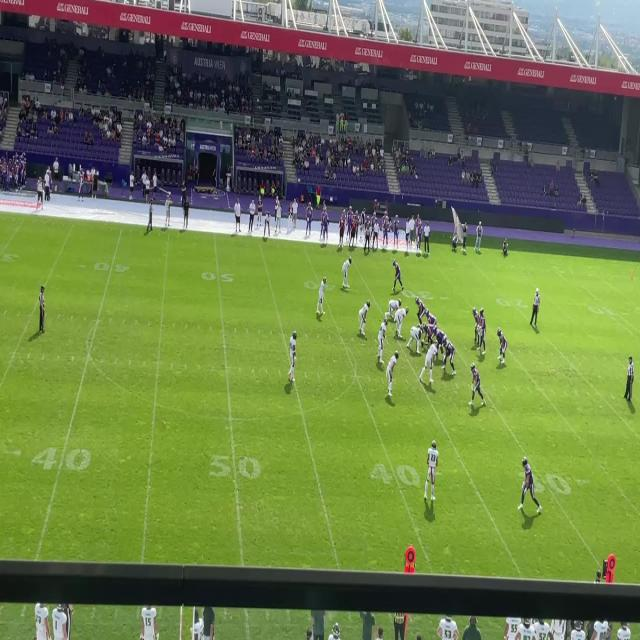4: (32, 442, 59, 474), (368, 460, 394, 490)
5: (209, 448, 233, 486)
american-football-players: (518, 456, 542, 515), (422, 438, 440, 504), (419, 339, 438, 390), (468, 362, 488, 410), (386, 350, 402, 402), (286, 328, 299, 388), (442, 337, 459, 379), (494, 328, 510, 369), (375, 318, 389, 363), (314, 275, 328, 319), (357, 298, 372, 339), (408, 317, 422, 355), (394, 302, 410, 335), (392, 257, 405, 294), (420, 315, 436, 341), (386, 295, 402, 319), (340, 254, 352, 285), (414, 293, 426, 324), (433, 327, 448, 351), (425, 308, 437, 330)
